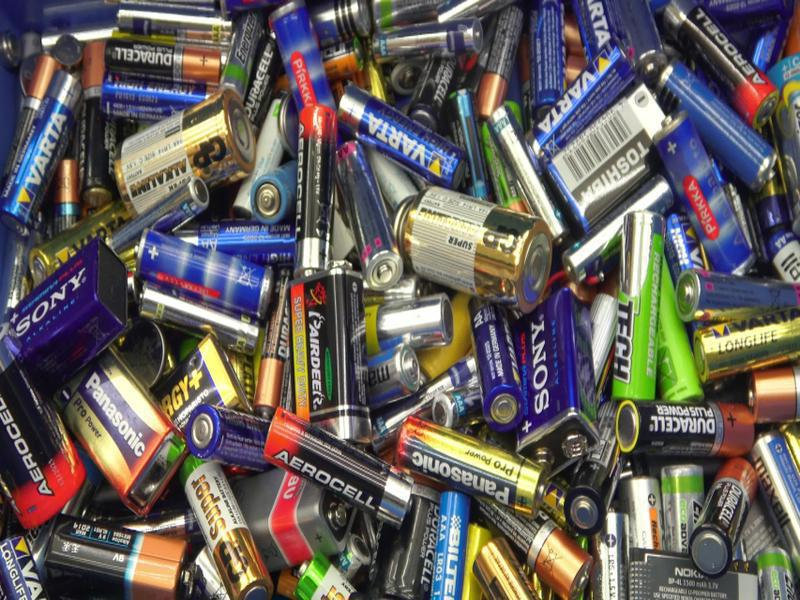cardboard: (376, 78, 537, 254), (457, 353, 630, 514), (333, 254, 453, 418), (178, 219, 328, 333), (379, 229, 547, 321)
plastic: (150, 294, 320, 510), (321, 371, 480, 513), (566, 292, 662, 423)
